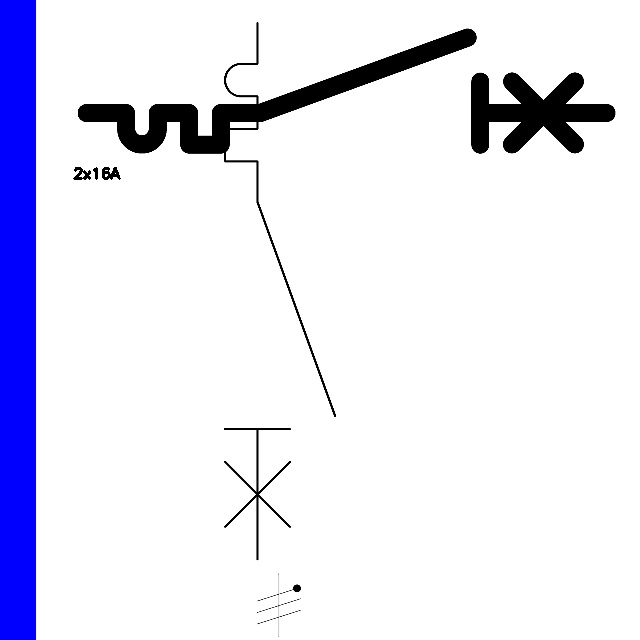interruptor_termomagnetico: (211, 9, 349, 573), (73, 24, 620, 158)
